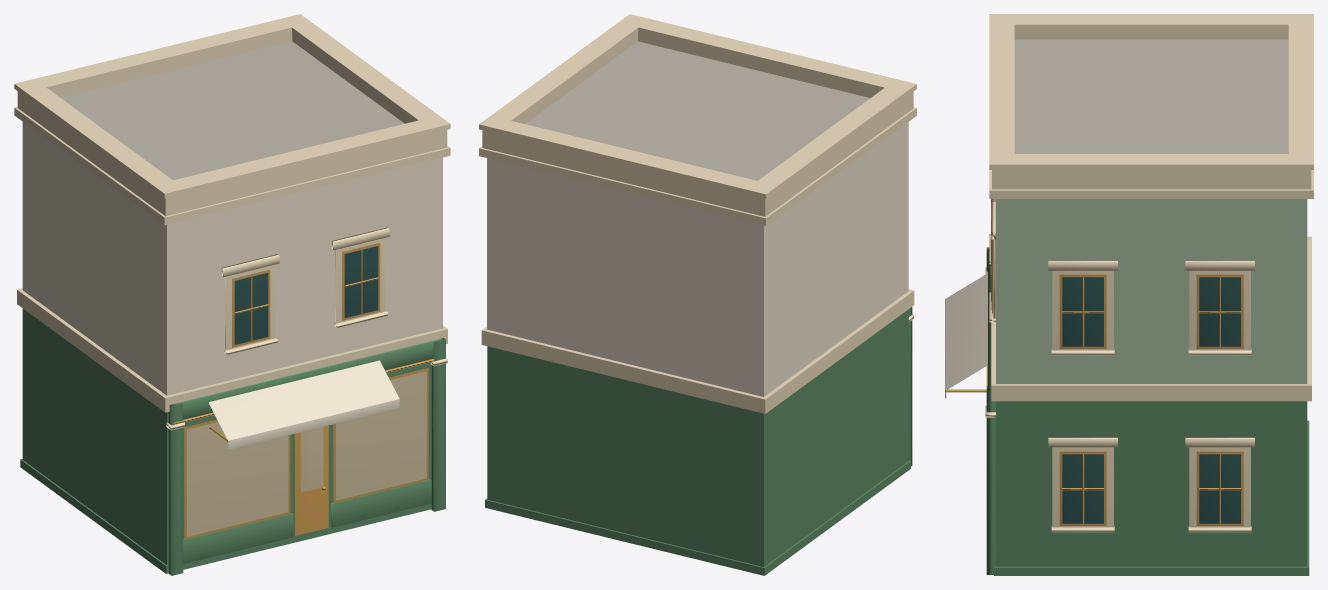
Rendered from building_low_sage.glb.
3 views of the same model, side by side, from view 1: azimuth 30°, elevation 25°; view 2: azimuth 150°, elevation 25°; view 3: azimuth 270°, elevation 25° (orthographic). The views are drawn at different scales.
Parts seen in each view (by area): view 1: WallUpper, Roof, WallGround, ParapetCap, Parapet, ShopWinGlass0, ShopWinGlass1, Awn, Band0, Cornice, Plinth, ShopFascia (+18 smaller); view 2: WallUpper, WallGround, Roof, ParapetCap, Parapet, Band0, Cornice, Plinth, ShopPilaster0.12; view 3: SideUpper, WallGround, Roof, ParapetCap, Parapet, Band0, Awn, Plinth, Cornice, SW0Glass, SG0Glass, SW1Glass (+14 smaller).
Part boxes in pixels (x1=…): WallUpper: x1=22, y1=122, x2=442, y2=395; Roof: x1=61, y1=41, x2=404, y2=180; WallGround: x1=22, y1=308, x2=167, y2=564; ParapetCap: x1=14, y1=14, x2=450, y2=198; Parapet: x1=17, y1=32, x2=447, y2=216; ShopWinGlass0: x1=187, y1=422, x2=288, y2=536; ShopWinGlass1: x1=336, y1=371, x2=426, y2=500; Awn: x1=209, y1=360, x2=399, y2=440; Band0: x1=17, y1=288, x2=447, y2=412; Cornice: x1=14, y1=107, x2=450, y2=225; Plinth: x1=20, y1=459, x2=430, y2=573; ShopFascia: x1=173, y1=339, x2=441, y2=419; WallUpper: x1=487, y1=122, x2=908, y2=396; WallGround: x1=487, y1=309, x2=908, y2=566; Roof: x1=525, y1=41, x2=870, y2=180; ParapetCap: x1=479, y1=14, x2=916, y2=199; Parapet: x1=482, y1=32, x2=913, y2=216; Band0: x1=481, y1=289, x2=914, y2=413; Cornice: x1=479, y1=107, x2=916, y2=225; Plinth: x1=485, y1=460, x2=910, y2=575; ShopPilaster0.12: x1=908, y1=307, x2=912, y2=466; SideUpper: x1=996, y1=199, x2=1307, y2=383; WallGround: x1=996, y1=401, x2=1307, y2=566; Roof: x1=1014, y1=39, x2=1288, y2=153; ParapetCap: x1=989, y1=14, x2=1313, y2=169; Parapet: x1=992, y1=30, x2=1311, y2=189; Band0: x1=991, y1=236, x2=1311, y2=401; Awn: x1=945, y1=273, x2=987, y2=389; Plinth: x1=994, y1=420, x2=1309, y2=575; Cornice: x1=989, y1=170, x2=1313, y2=198; SW0Glass: x1=1062, y1=277, x2=1103, y2=346; SG0Glass: x1=1062, y1=454, x2=1103, y2=523; SW1Glass: x1=1199, y1=277, x2=1240, y2=346.
Size of the model in its own units: 5.39 by 6.89 by 5.57.
